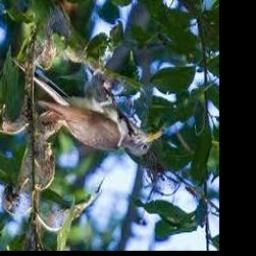Cuckoo: (9, 54, 161, 156)
